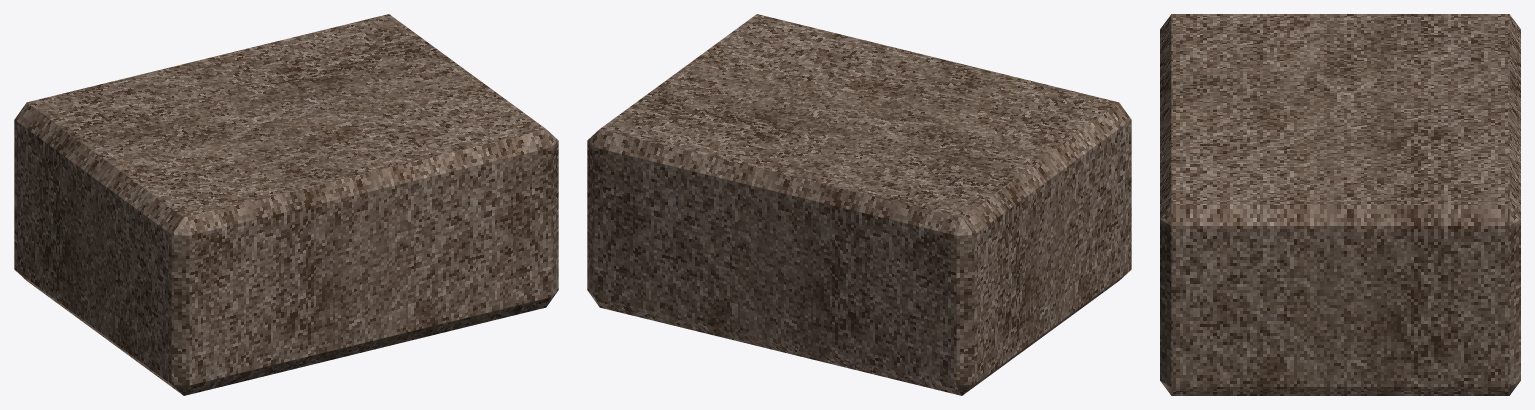
File: haybale_dry.glb
3 views of the same model, side by side, from view 1: azimuth 30°, elevation 25°; view 2: azimuth 150°, elevation 25°; view 3: azimuth 270°, elevation 25° (orthographic). The views are drawn at different scales.
Parts seen in each view (by area): view 1: haybale_dry; view 2: haybale_dry; view 3: haybale_dry.
Boxes of the visible parts, x1,y1,x2,y2 form: haybale_dry: (14, 14, 558, 395); haybale_dry: (587, 14, 1131, 395); haybale_dry: (1160, 14, 1520, 395).
Bounding box in the file's own units: 1.8 × 0.7936 × 1.35.
1 material, 1 textured.
